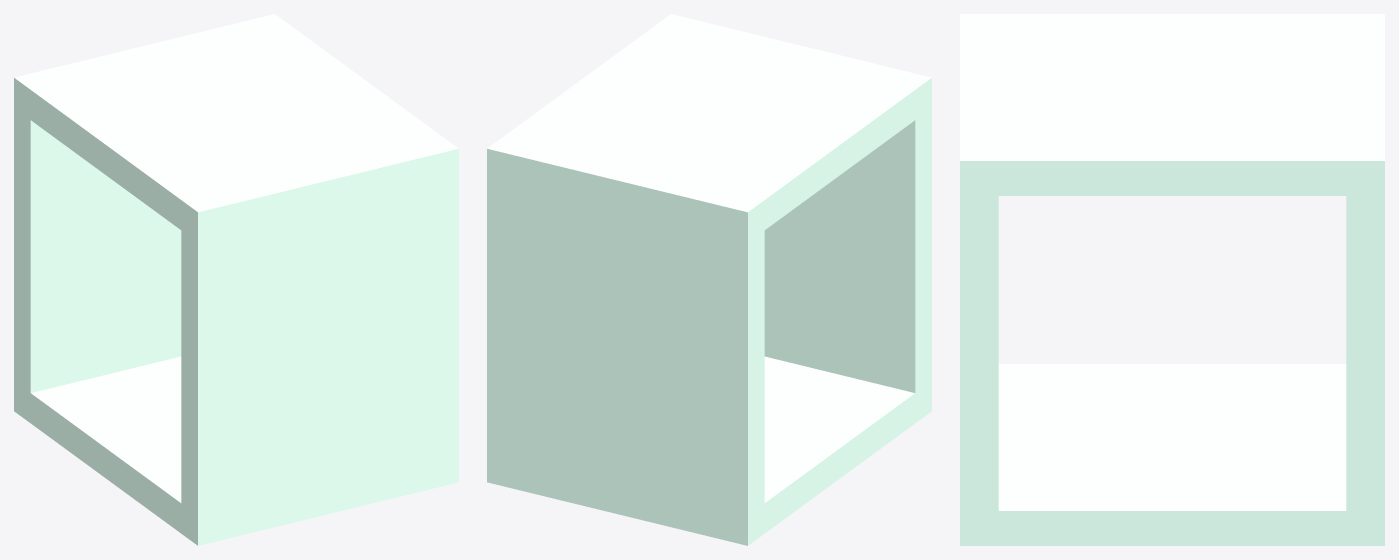
Rendered from tunnel_extra_large.glb.
3 renders of one model, left to right at view 1: azimuth 30°, elevation 25°; view 2: azimuth 150°, elevation 25°; view 3: azimuth 270°, elevation 25°, orthographic. The views are drawn at different scales.
Visible parts, largest first — view 1: TunnelExtraLarge_WallL-convcol, TunnelExtraLarge_Ceiling-convcol, TunnelExtraLarge_WallR-convcol, TunnelExtraLarge_Floor-convcol; view 2: TunnelExtraLarge_WallR-convcol, TunnelExtraLarge_Ceiling-convcol, TunnelExtraLarge_WallL-convcol, TunnelExtraLarge_Floor-convcol; view 3: TunnelExtraLarge_Ceiling-convcol, TunnelExtraLarge_Floor-convcol, TunnelExtraLarge_WallL-convcol, TunnelExtraLarge_WallR-convcol.
Boxes of the visible parts, x1,y1,x2,y2 form: TunnelExtraLarge_WallL-convcol: (181,179,458,515); TunnelExtraLarge_Ceiling-convcol: (14,14,458,242); TunnelExtraLarge_WallR-convcol: (14,108,181,392); TunnelExtraLarge_Floor-convcol: (14,356,458,545); TunnelExtraLarge_WallR-convcol: (487,179,764,515); TunnelExtraLarge_Ceiling-convcol: (487,14,931,242); TunnelExtraLarge_WallL-convcol: (764,108,931,392); TunnelExtraLarge_Floor-convcol: (487,356,931,545); TunnelExtraLarge_Ceiling-convcol: (960,14,1384,195); TunnelExtraLarge_Floor-convcol: (960,364,1384,545); TunnelExtraLarge_WallL-convcol: (960,196,998,510); TunnelExtraLarge_WallR-convcol: (1346,196,1384,510).
Size of the model in its own units: 12.15 by 14.85 by 14.85.
